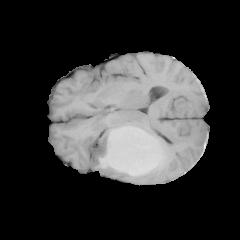glioma: (88, 124, 165, 177)
